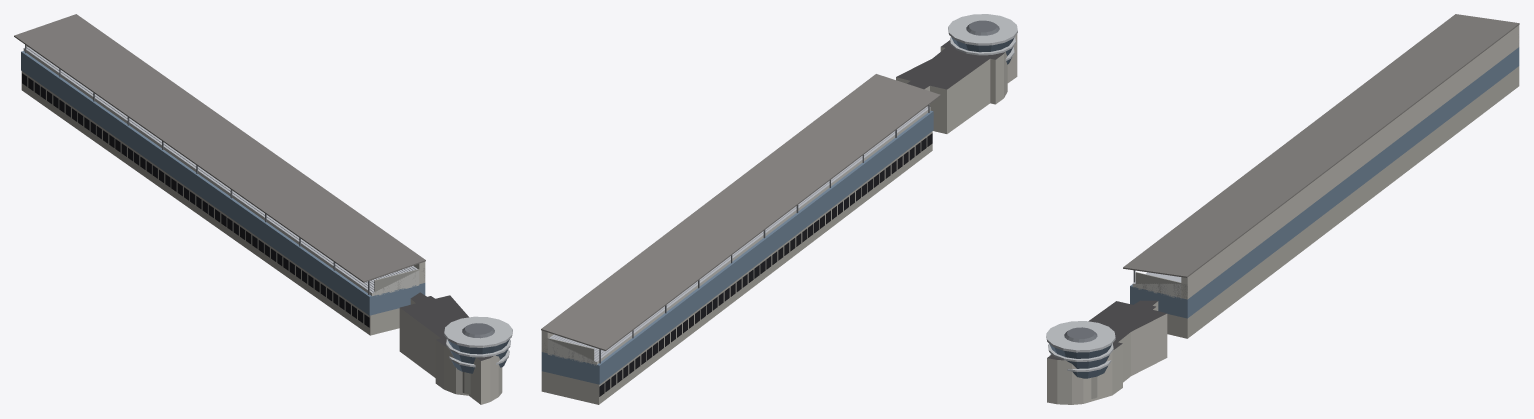
Rendered from pits.glb.
3 renders of one model, left to right at view 1: azimuth 30°, elevation 25°; view 2: azimuth 150°, elevation 25°; view 3: azimuth 330°, elevation 25°, orthographic.
Parts seen in each view (by area): view 1: chunk_0_0; view 2: chunk_0_0; view 3: chunk_0_0.
Part boxes in pixels (x1=…): chunk_0_0: x1=14, y1=14, x2=512, y2=404; chunk_0_0: x1=541, y1=14, x2=1017, y2=404; chunk_0_0: x1=1046, y1=14, x2=1519, y2=404.
Bounding box in the file's own units: 31.96 × 25.4 × 315.
